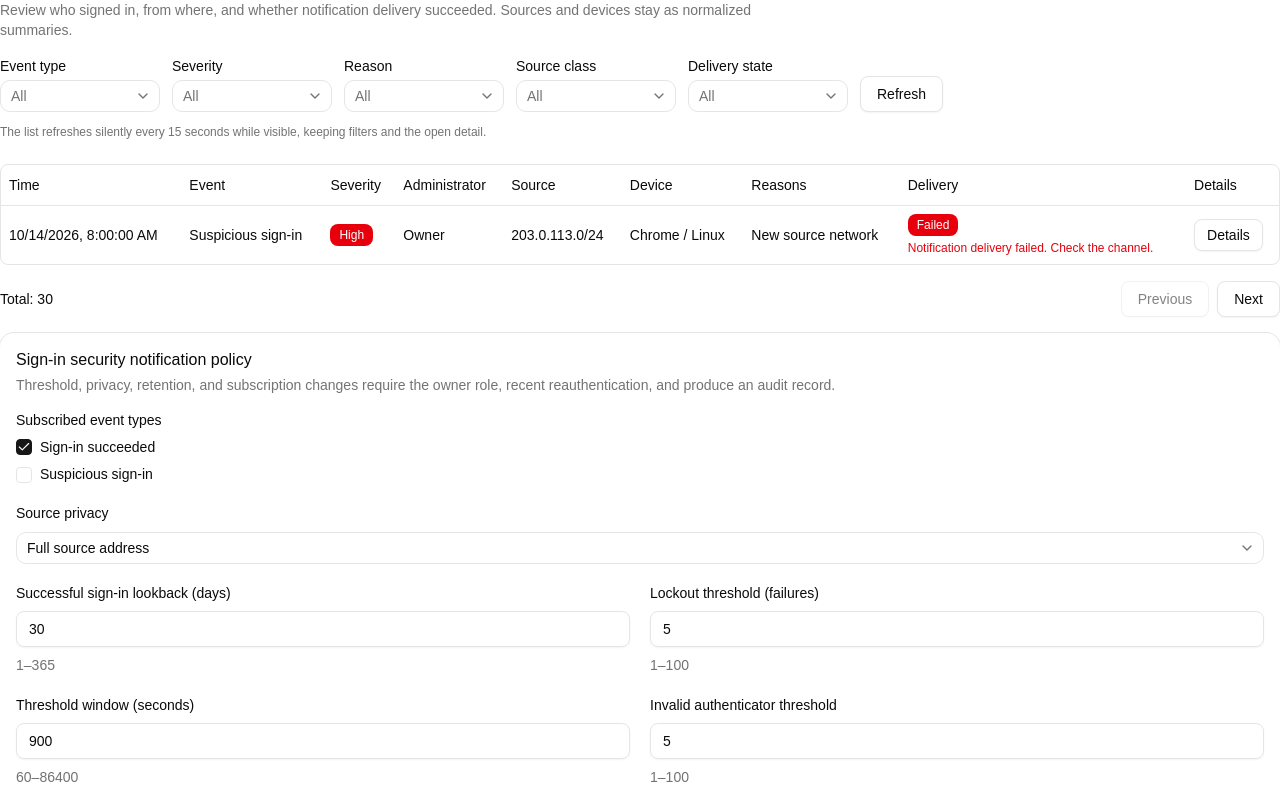
Test: sign-in security events console › reveals the protected source address after confirmation under full-source privacy
Click the button with aria-label "Details: Suspicious sign-in" at (1228, 234), box [1194, 218, 1263, 250]
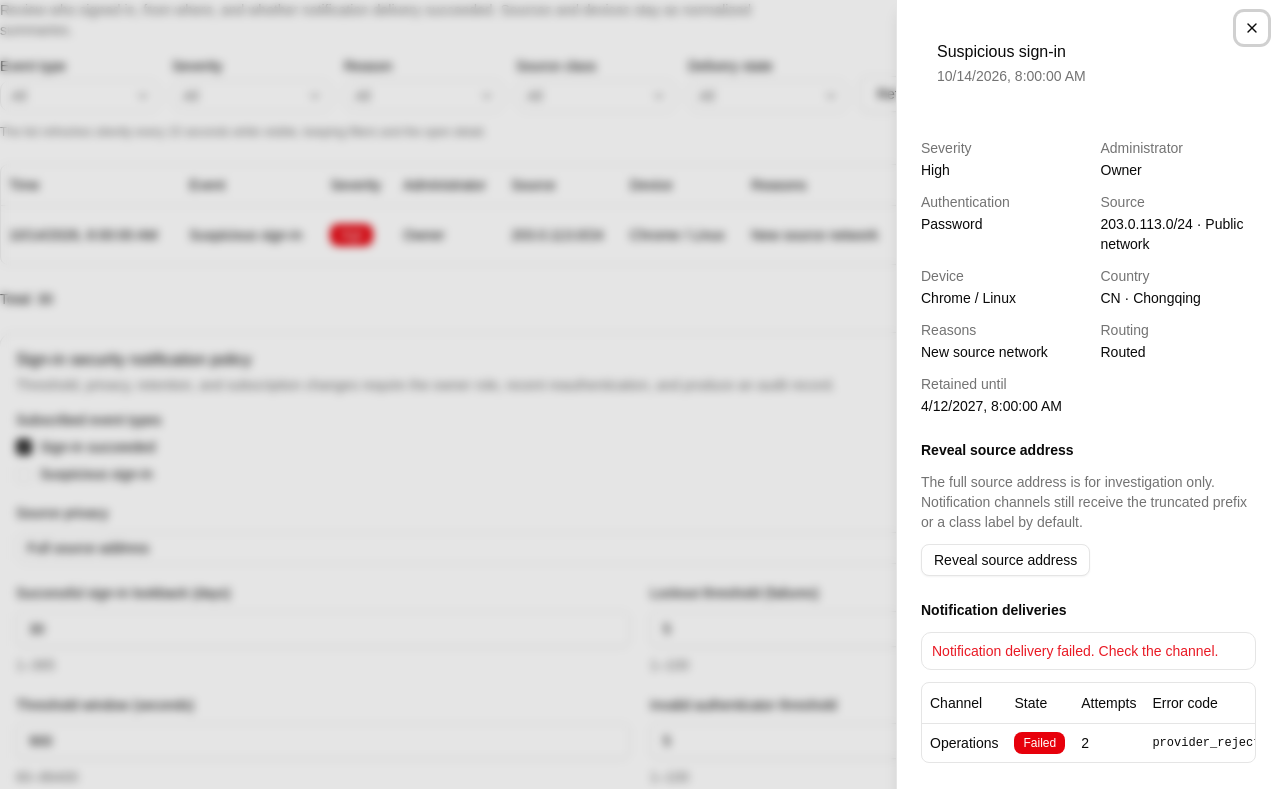
Click the button "Reveal source address" at (1006, 560), box [921, 544, 1090, 576]
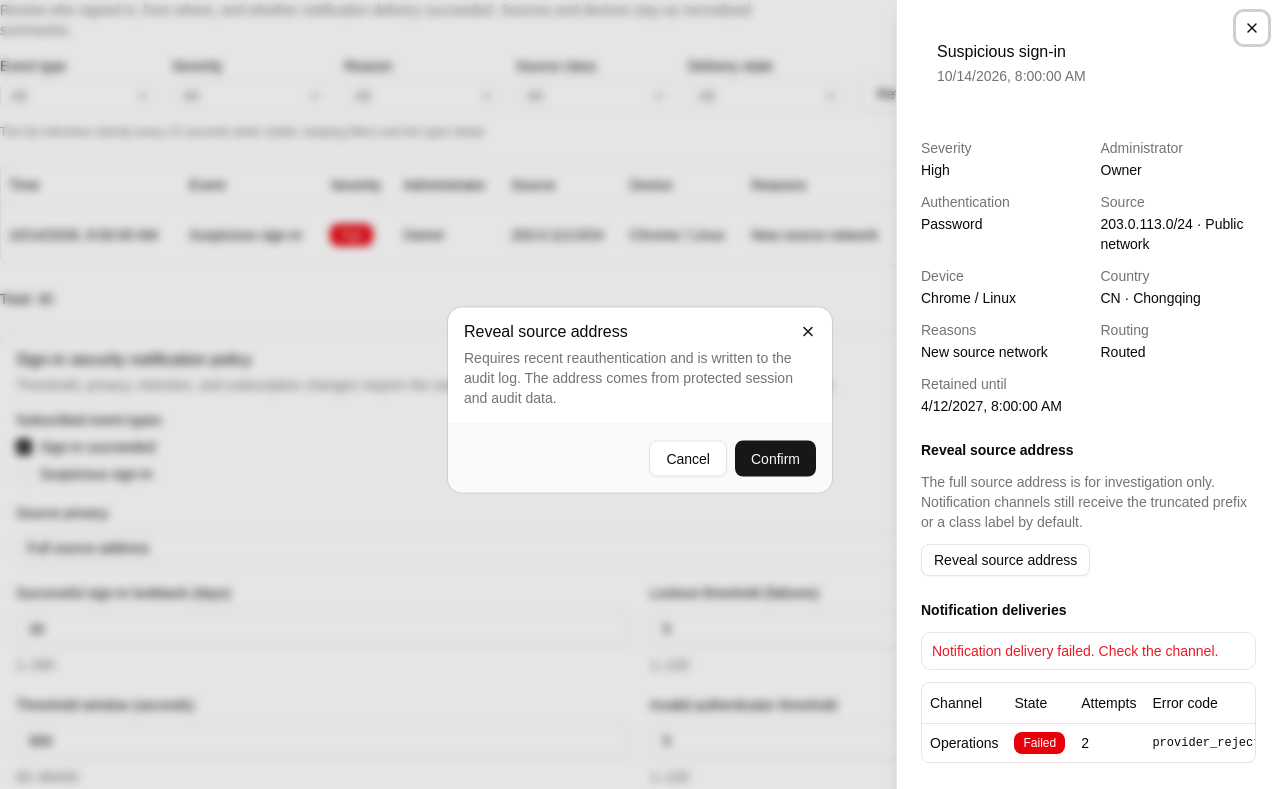
Click the button "Confirm" at (776, 458), box [735, 440, 816, 476]
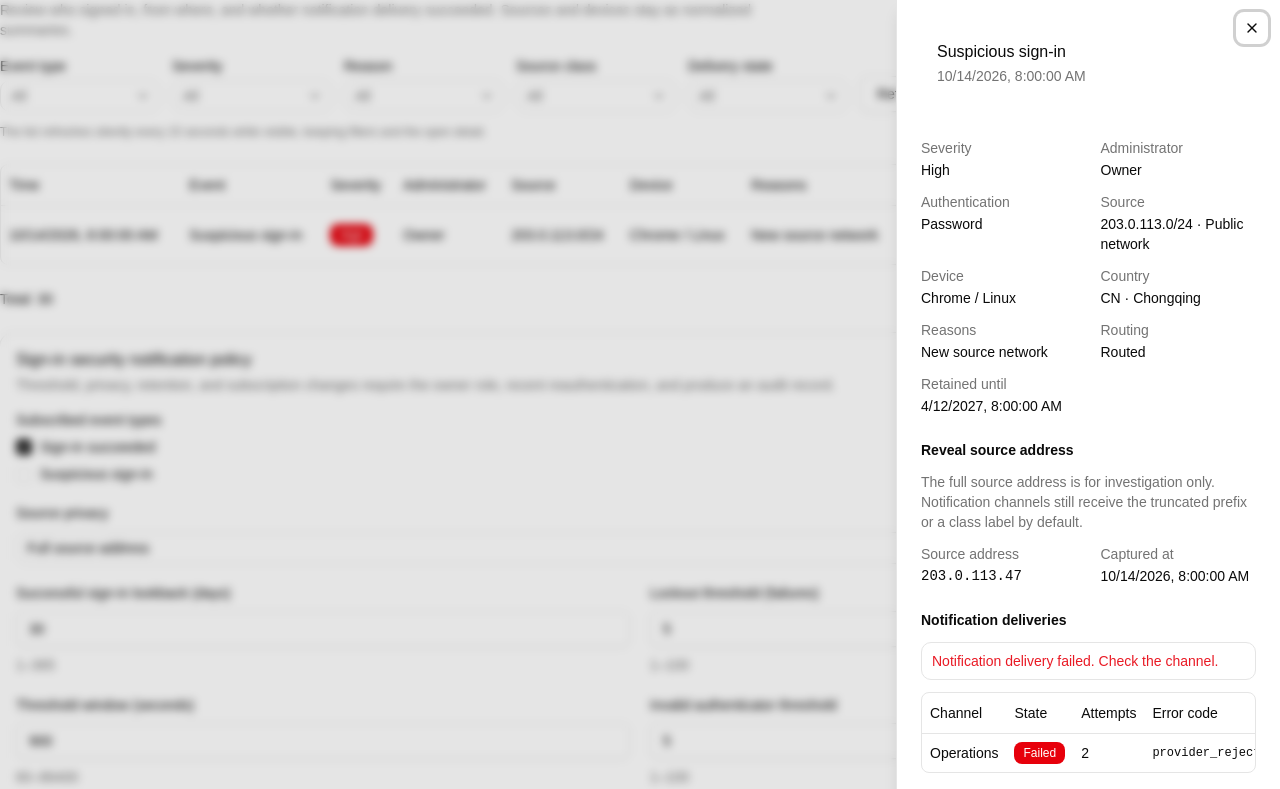
Now the text "203.0.113.47" is shown, box [921, 568, 1022, 584]
